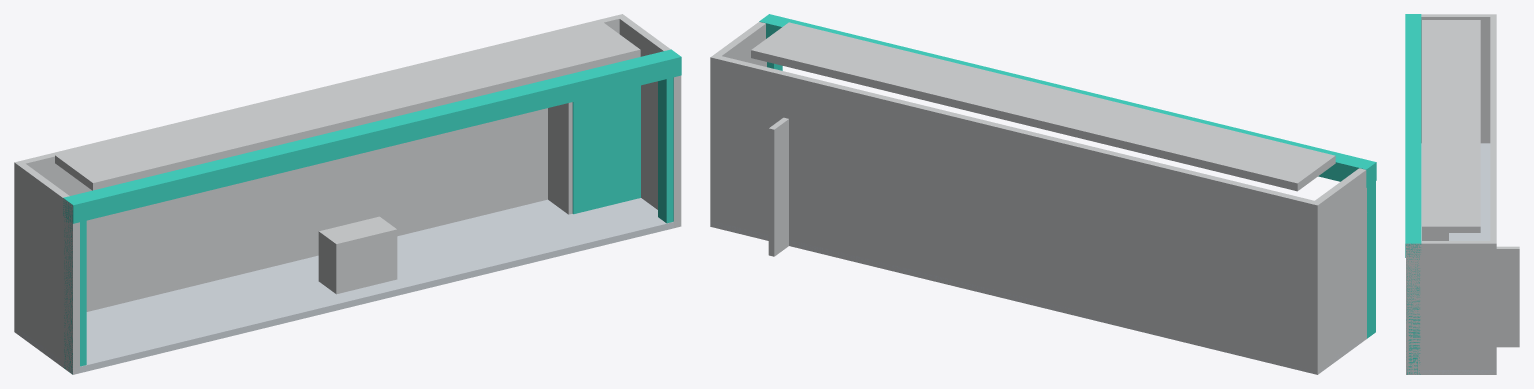
The picture shows the model from 3 angles, left to right: view 1: azimuth 30°, elevation 25°; view 2: azimuth 150°, elevation 25°; view 3: azimuth 270°, elevation 25°; orthographic projection. The views are drawn at different scales.
Visible parts, largest first — view 1: Exhibition Booth Concept; view 2: Exhibition Booth Concept; view 3: Exhibition Booth Concept.
Boxes of the visible parts, x1=… form: Exhibition Booth Concept: x1=14, y1=14, x2=681, y2=374; Exhibition Booth Concept: x1=710, y1=14, x2=1376, y2=374; Exhibition Booth Concept: x1=1405, y1=14, x2=1519, y2=374.
Bounding box in the file's own units: 12 × 3.34 × 2.52.
